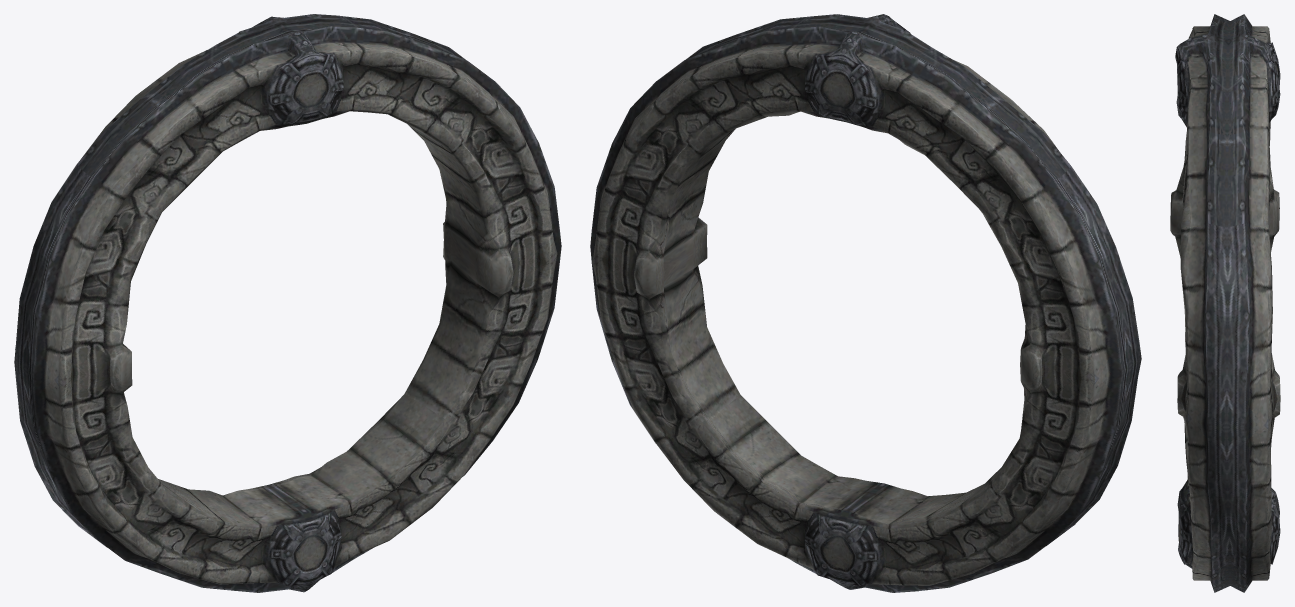
Rendered from door.fbx.
The picture shows the model from 3 angles, left to right: view 1: azimuth 30°, elevation 25°; view 2: azimuth 150°, elevation 25°; view 3: azimuth 270°, elevation 25°; orthographic projection. The views are drawn at different scales.
Visible parts, largest first — view 1: node_id5; view 2: node_id5; view 3: node_id5.
Part boxes in pixels (x1=…): node_id5: x1=14, y1=14, x2=561, y2=592; node_id5: x1=590, y1=14, x2=1141, y2=592; node_id5: x1=1170, y1=14, x2=1280, y2=592.
Size of the model in its own units: 0.0102 by 0.0102 by 0.0019.
Materials: 1 (1 with a texture image).
